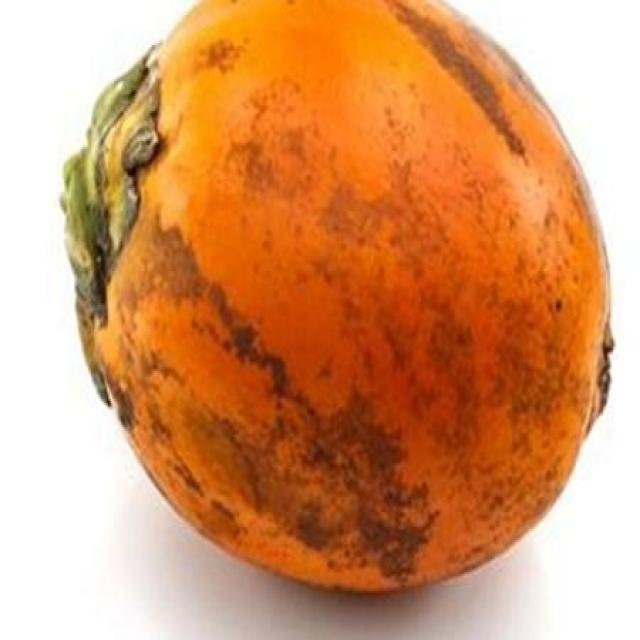good: (61, 0, 612, 599)
